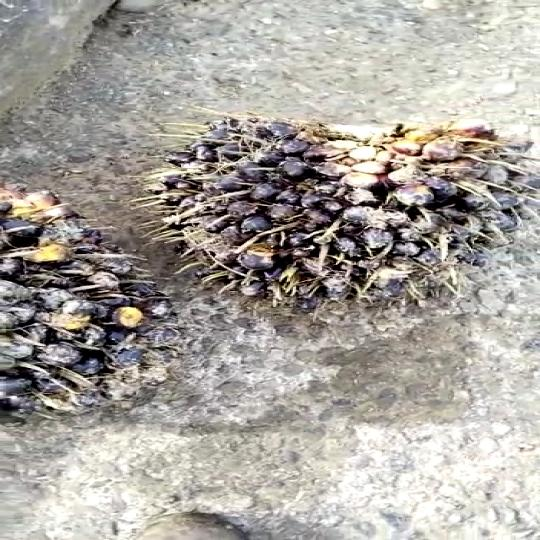mentah: (143, 108, 531, 323), (1, 176, 178, 427)
